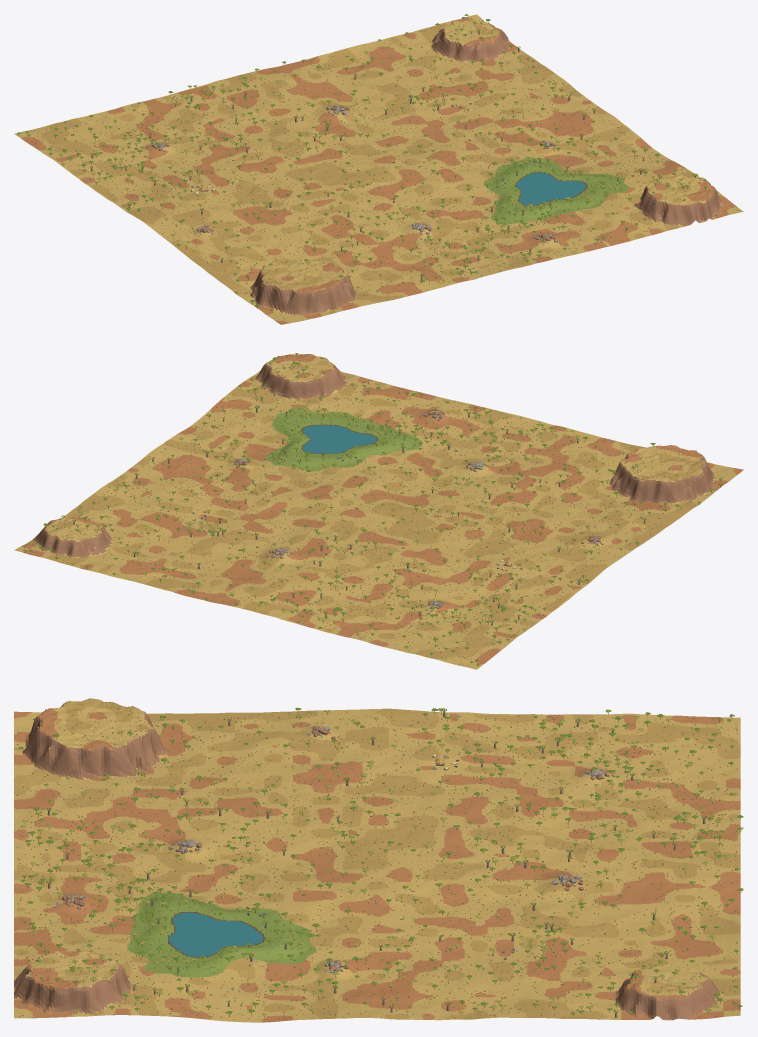
File: Savane.obj
The picture shows the model from 3 angles, top to bottom: view 1: azimuth 30°, elevation 25°; view 2: azimuth 150°, elevation 25°; view 3: azimuth 270°, elevation 25°; orthographic projection. The views are drawn at different scales.
Parts seen in each view (by area): view 1: Terrain_r0c4, Terrain_r4c0, Terrain_r4c4, Terrain_r3c4, Terrain_r4c2, Terrain_r3c0, Terrain_r4c1, Terrain_r1c3, Terrain_r2c3, Terrain_r2c2, Terrain_r3c1, Terrain_r1c2 (+14 smaller); view 2: Terrain_r0c4, Terrain_r4c3, Terrain_r4c4, Terrain_r1c1, Terrain_r1c0, Terrain_r0c1, Terrain_r2c4, Terrain_r3c2, Terrain_r4c1, Terrain_r2c0, Terrain_r0c0, Terrain_r1c2 (+14 smaller); view 3: Terrain_r0c4, Terrain_r3c2, Terrain_r0c3, Terrain_r4c4, Terrain_r4c3, Terrain_r3c0, Terrain_r1c2, Terrain_r2c1, Terrain_r1c4, Terrain_r2c2, Terrain_r0c0, Terrain_r1c3 (+15 smaller).
Part boxes in pixels (left/top/right/bottom): Terrain_r0c4: left=228, top=259, right=373, bottom=324; Terrain_r4c0: left=384, top=14, right=529, bottom=79; Terrain_r4c4: left=598, top=171, right=743, bottom=235; Terrain_r3c4: left=505, top=194, right=650, bottom=258; Terrain_r4c2: left=491, top=95, right=636, bottom=158; Terrain_r3c0: left=292, top=39, right=436, bottom=102; Terrain_r4c1: left=438, top=56, right=583, bottom=119; Terrain_r1c3: left=267, top=201, right=412, bottom=262; Terrain_r2c3: left=360, top=179, right=503, bottom=243; Terrain_r2c2: left=306, top=142, right=451, bottom=201; Terrain_r3c1: left=345, top=80, right=490, bottom=141; Terrain_r1c2: left=214, top=162, right=358, bottom=223; Terrain_r0c4: left=598, top=445, right=743, bottom=510; Terrain_r4c3: left=175, top=394, right=319, bottom=459; Terrain_r4c4: left=228, top=354, right=373, bottom=416; Terrain_r1c1: left=345, top=542, right=490, bottom=603; Terrain_r1c0: left=292, top=583, right=434, bottom=646; Terrain_r0c1: left=443, top=565, right=583, bottom=627; Terrain_r2c4: left=413, top=403, right=558, bottom=466; Terrain_r3c2: left=214, top=460, right=358, bottom=521; Terrain_r4c1: left=68, top=475, right=212, bottom=537; Terrain_r2c0: left=199, top=560, right=344, bottom=622; Terrain_r0c0: left=384, top=606, right=529, bottom=669; Terrain_r1c2: left=400, top=503, right=543, bottom=564; Terrain_r0c4: left=14, top=698, right=159, bottom=776; Terrain_r3c2: left=304, top=894, right=449, bottom=960; Terrain_r0c3: left=159, top=711, right=304, bottom=777; Terrain_r4c4: left=14, top=950, right=159, bottom=1018; Terrain_r4c3: left=159, top=955, right=304, bottom=1022; Terrain_r3c0: left=595, top=896, right=740, bottom=959; Terrain_r1c2: left=304, top=772, right=449, bottom=834; Terrain_r2c1: left=450, top=833, right=595, bottom=899; Terrain_r1c4: left=14, top=770, right=159, bottom=838; Terrain_r2c2: left=304, top=834, right=449, bottom=898; Terrain_r0c0: left=595, top=713, right=740, bottom=779; Terrain_r1c3: left=159, top=772, right=304, bottom=838.
Bounding box in the file's own units: 1006 × 53.36 × 1005.
